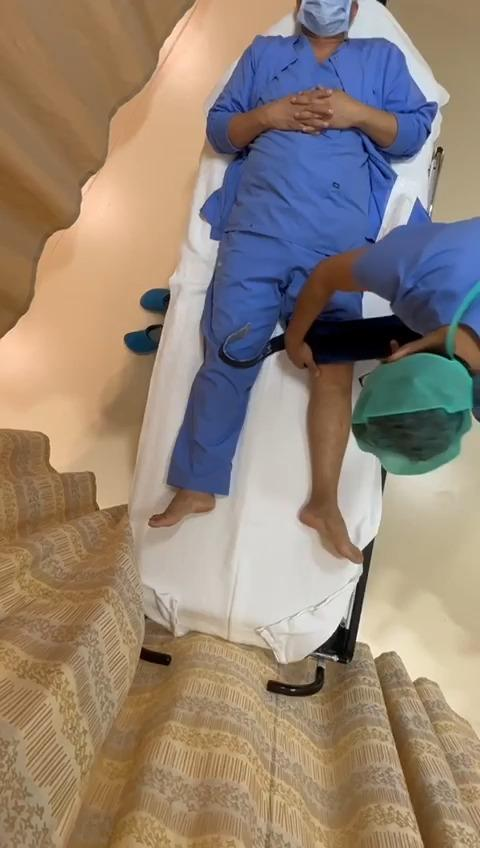bed: (106, 0, 445, 662)
patient: (149, 0, 437, 562)
tourniquet: (305, 314, 422, 363)
